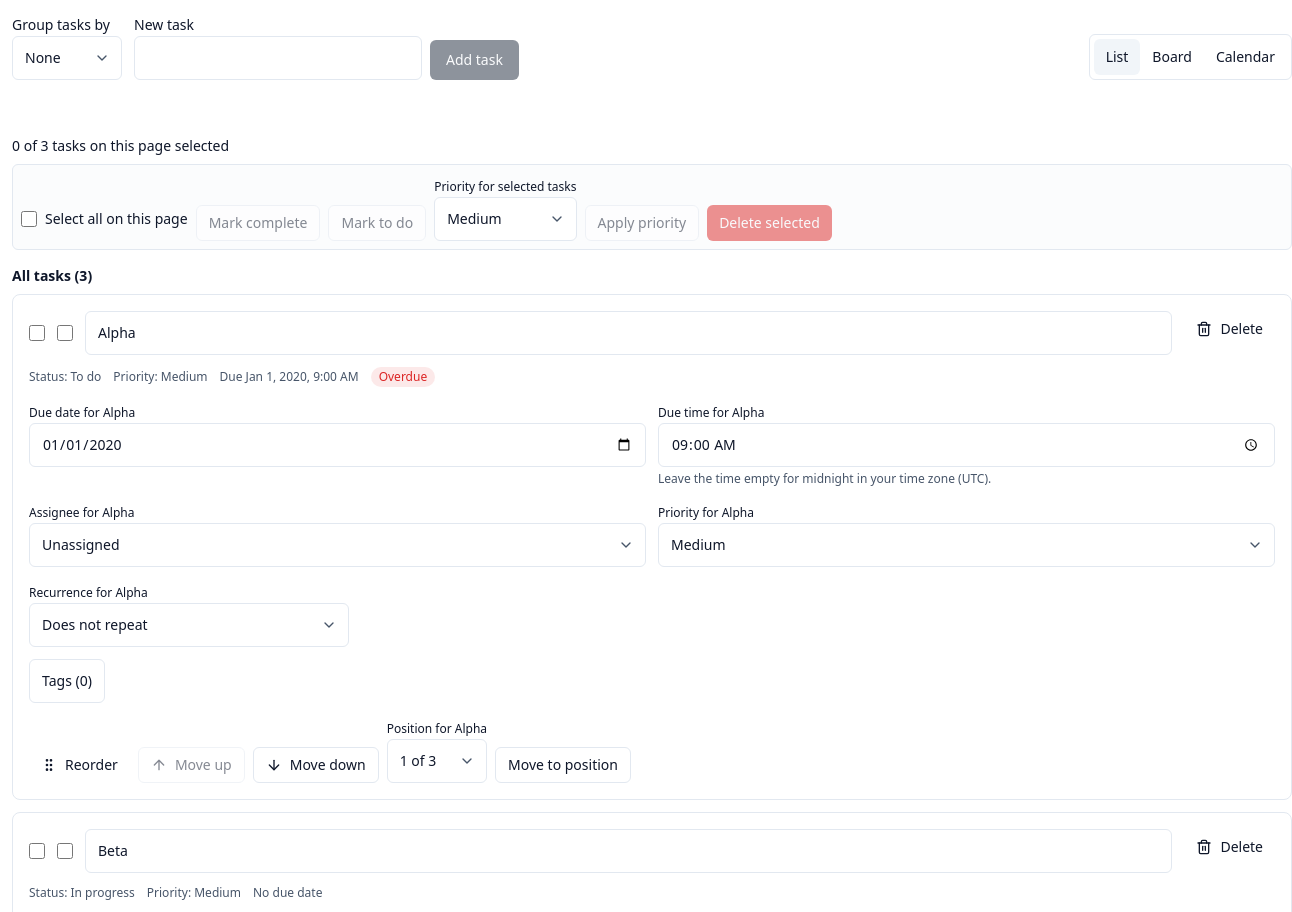
TaskListView › moves a task between groups as soon as it is completed
Select "Status" in the dropdown labelled "Group tasks by": (67, 58) x1=12 y1=36 x2=122 y2=80
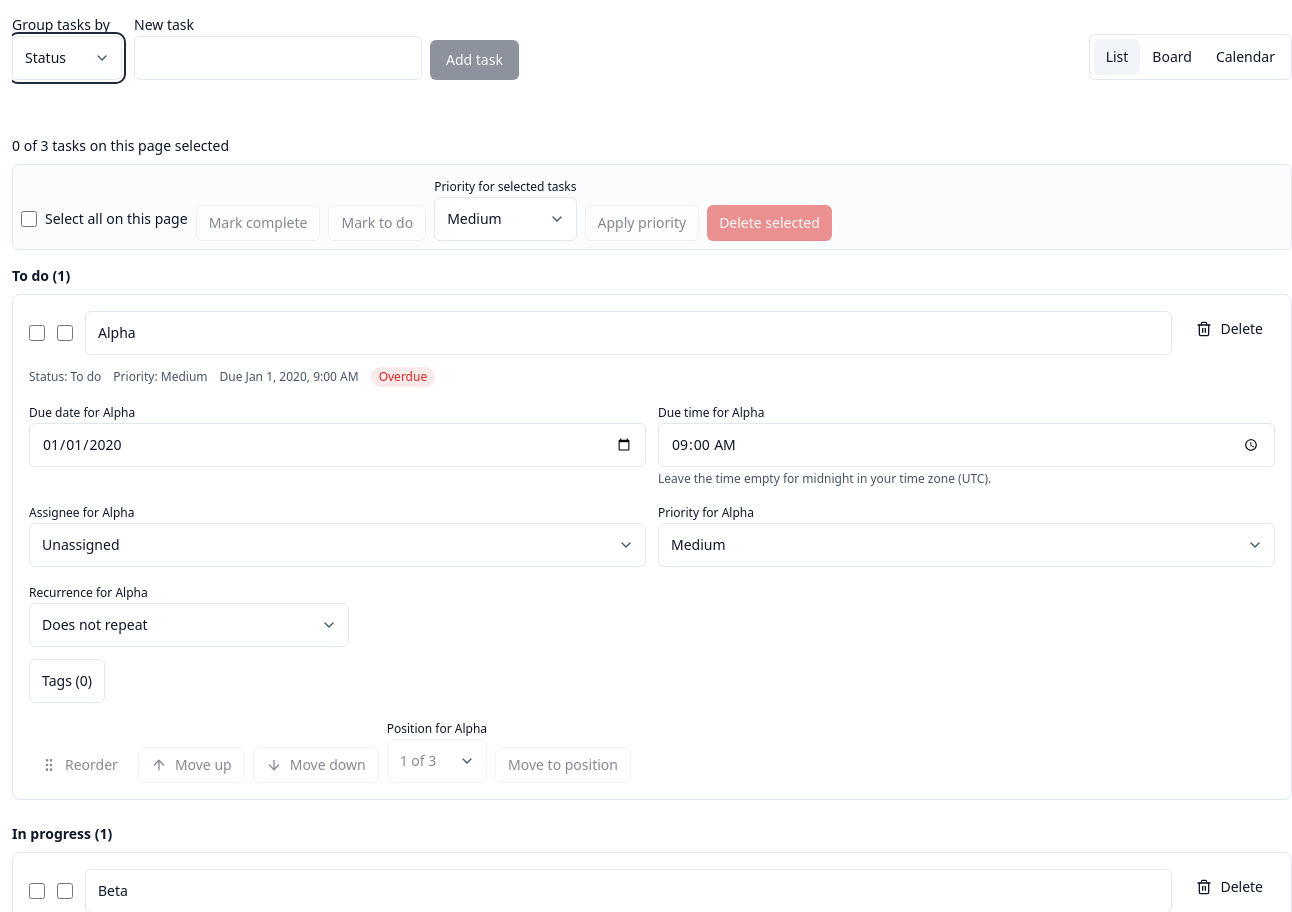
Click the 2nd checkbox named "Complete Alpha": (65, 333) x1=57 y1=325 x2=73 y2=341
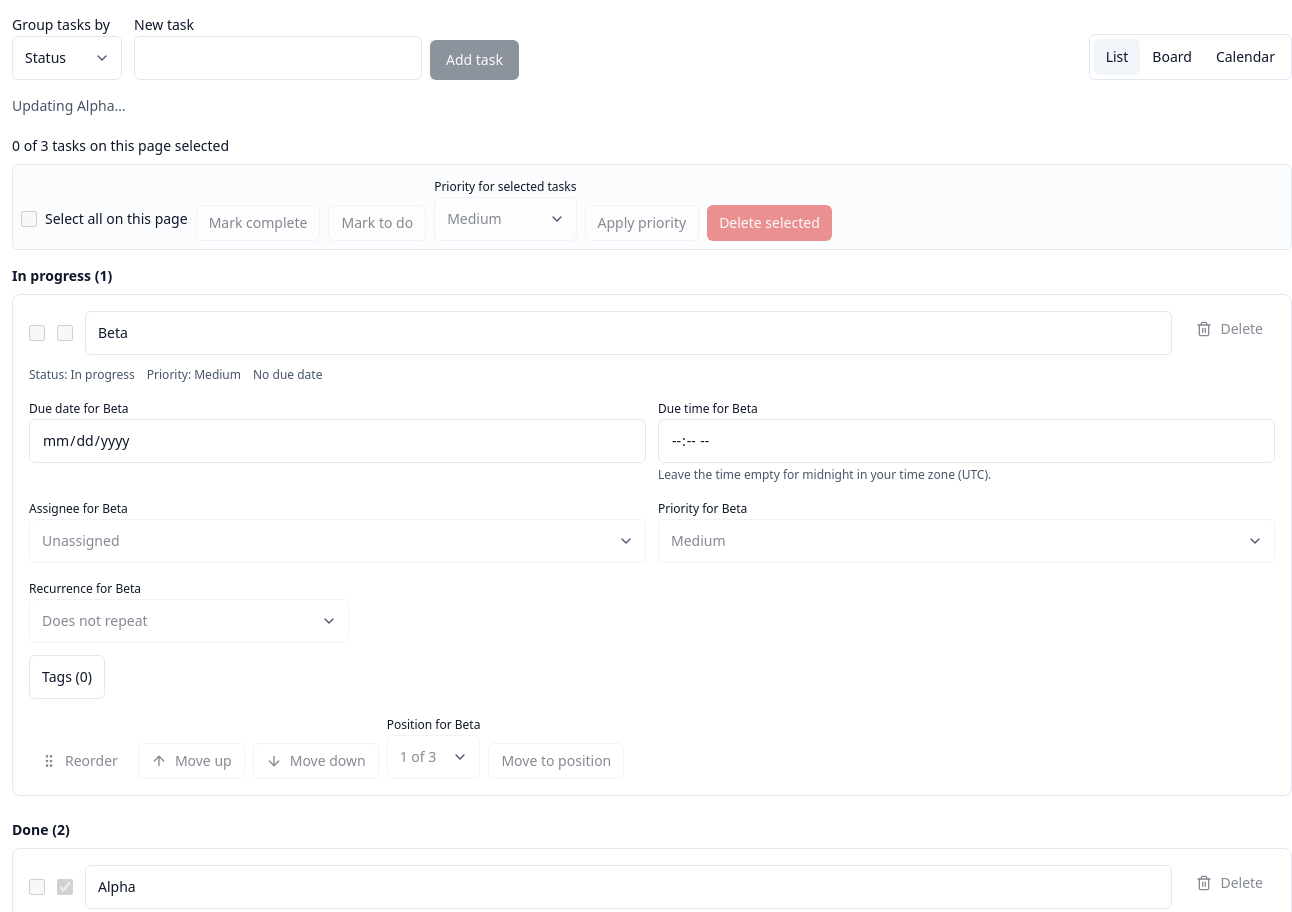
Expected: the 2nd field showing "Alpha" is shown, x1=85 y1=865 x2=1172 y2=909
Expected: the heading "To do (1)" is gone
